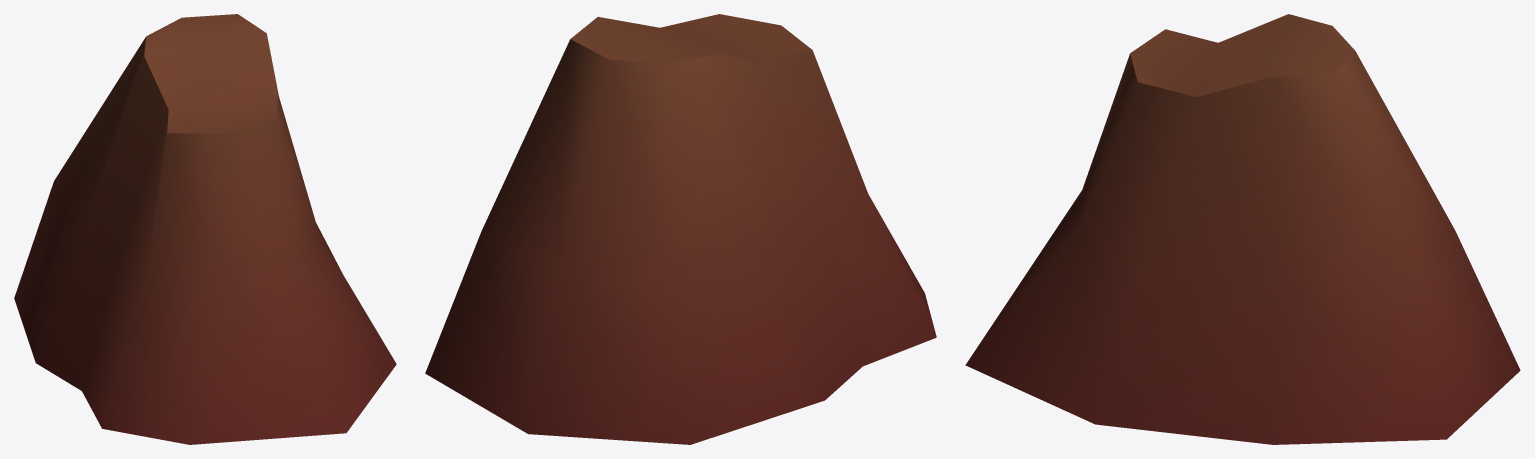
File: Mountain_big.022.fbx
3 renders of one model, left to right at view 1: azimuth 30°, elevation 25°; view 2: azimuth 150°, elevation 25°; view 3: azimuth 270°, elevation 25°, orthographic. The views are drawn at different scales.
Visible parts, largest first — view 1: Mountain_big.022; view 2: Mountain_big.022; view 3: Mountain_big.022.
Part boxes in pixels (x1=…): Mountain_big.022: x1=14, y1=14, x2=396, y2=444; Mountain_big.022: x1=425, y1=14, x2=936, y2=444; Mountain_big.022: x1=965, y1=14, x2=1520, y2=444.
Size of the model in its own units: 269 by 226 by 356.
